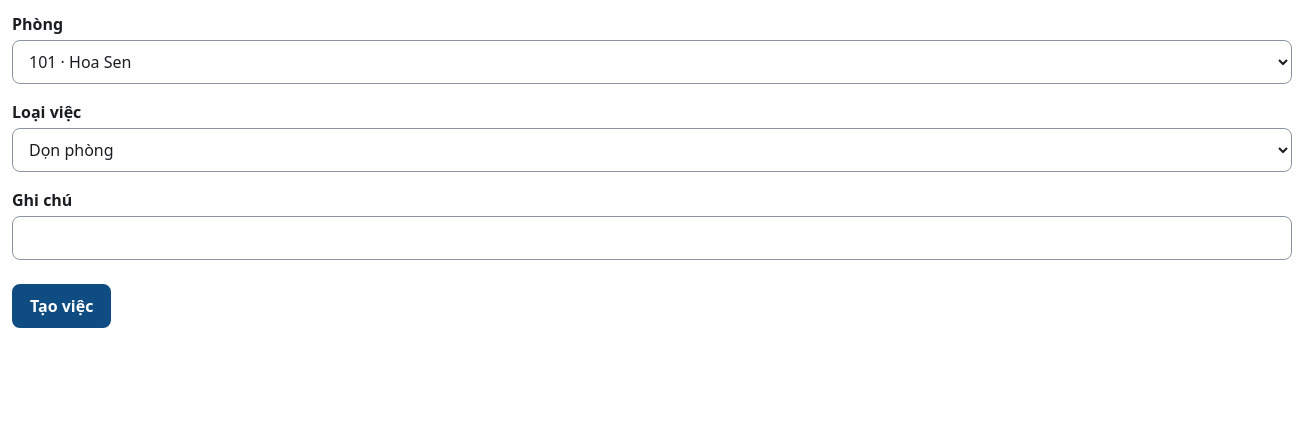
CommandForm › mất mạng khi gửi (fetch ném lỗi) rồi tra thấy 404: bật Gửi lại và gửi lại dùng CÙNG Idempotency-Key
This screenshot has width=1304, height=433.
Click the button "Tạo việc": (62, 306) [12,284,111,328]
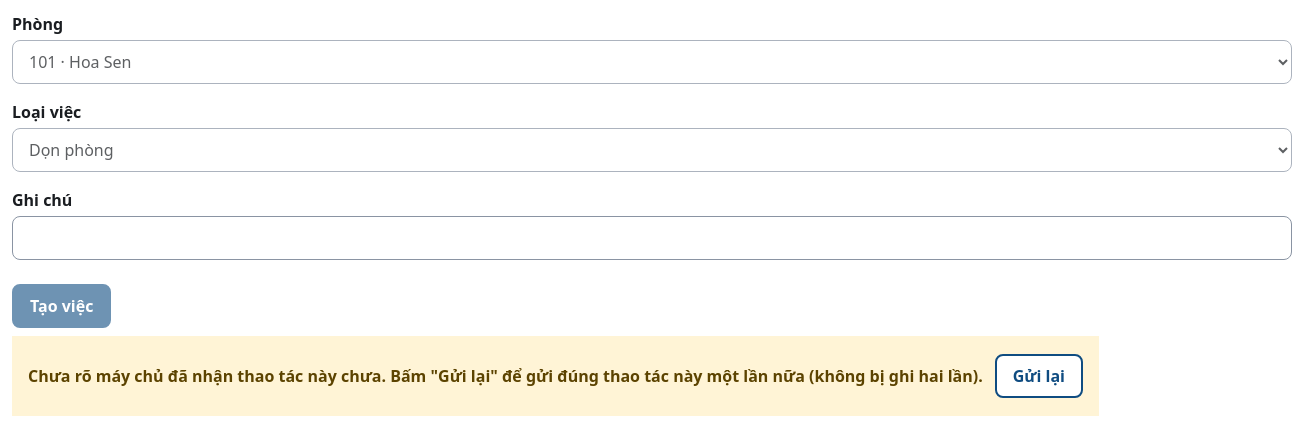
Click the button "Gửi lại": (1039, 376) [995,354,1083,398]
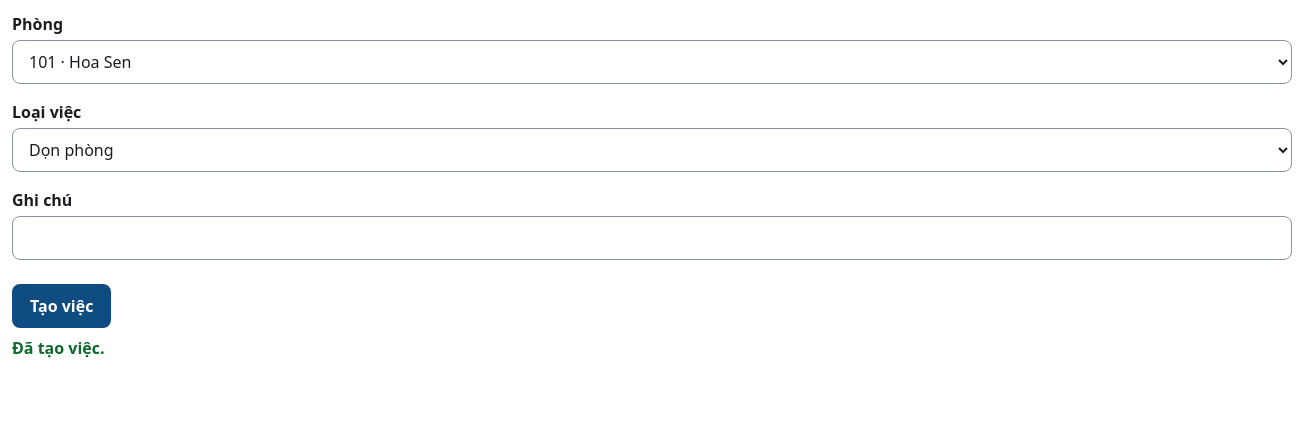
Now the message reads "Đã tạo việc.", box [12,337,105,359]
